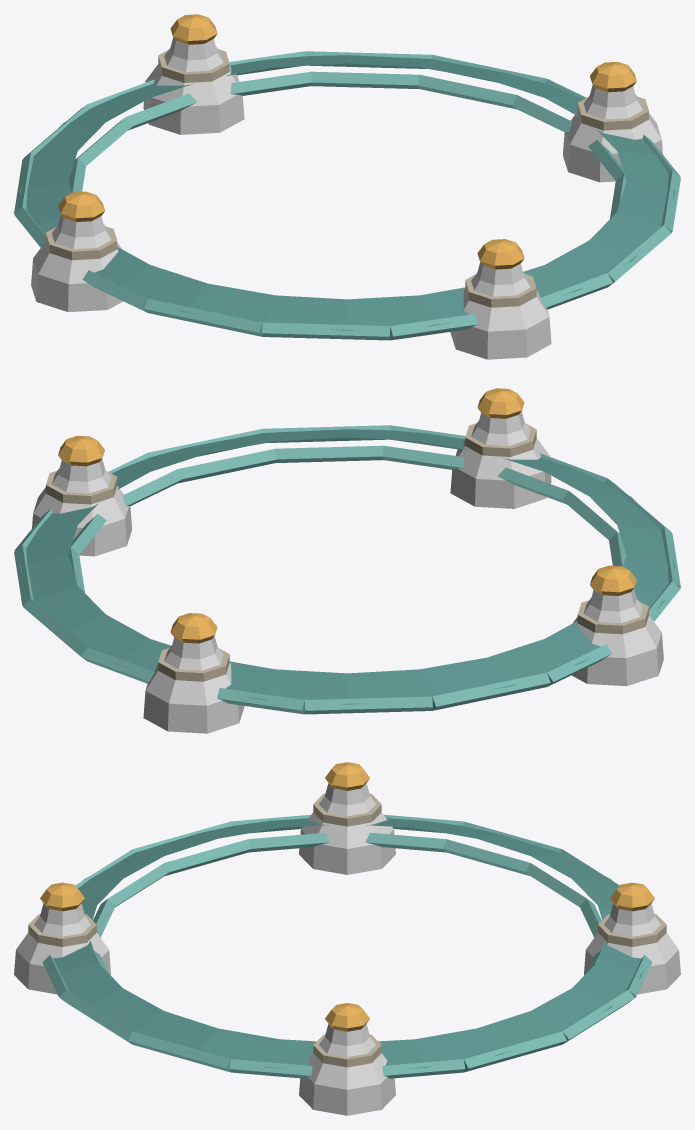
Rendered from space_ramparts.glb.
3 views of the same model, one above another, from view 1: azimuth 30°, elevation 25°; view 2: azimuth 150°, elevation 25°; view 3: azimuth 270°, elevation 25° (orthographic). The views are drawn at different scales.
Parts seen in each view (by area): view 1: FixedDetails, WoodBody, BrassTrim; view 2: FixedDetails, WoodBody, BrassTrim; view 3: FixedDetails, WoodBody, BrassTrim.
Part boxes in pixels (box(x1,y1,x2,y2)): FixedDetails: box(14, 49, 680, 340); WoodBody: box(31, 37, 662, 359); BrassTrim: box(58, 14, 636, 269); FixedDetails: box(14, 423, 680, 714); WoodBody: box(32, 411, 663, 733); BrassTrim: box(58, 388, 636, 643); FixedDetails: box(28, 793, 666, 1078); WoodBody: box(14, 783, 680, 1115); BrassTrim: box(40, 762, 654, 1031).
Bounding box in the file's own units: 0.541 × 0.08 × 0.541.
